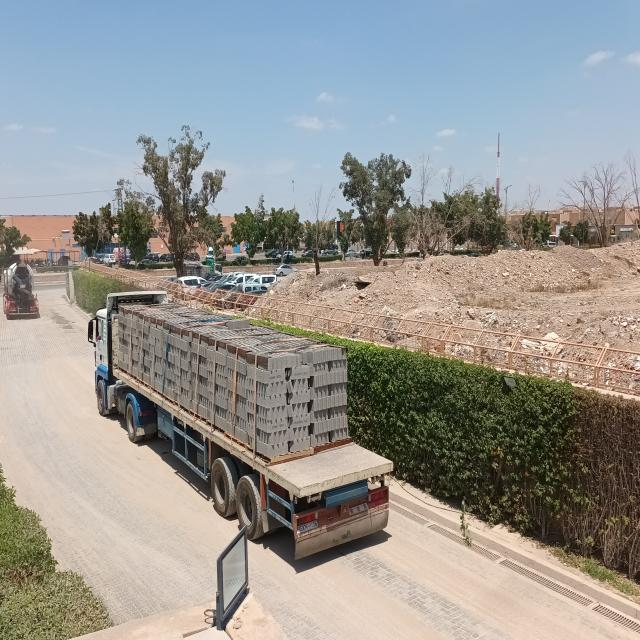bricks: (112, 303, 349, 460)
